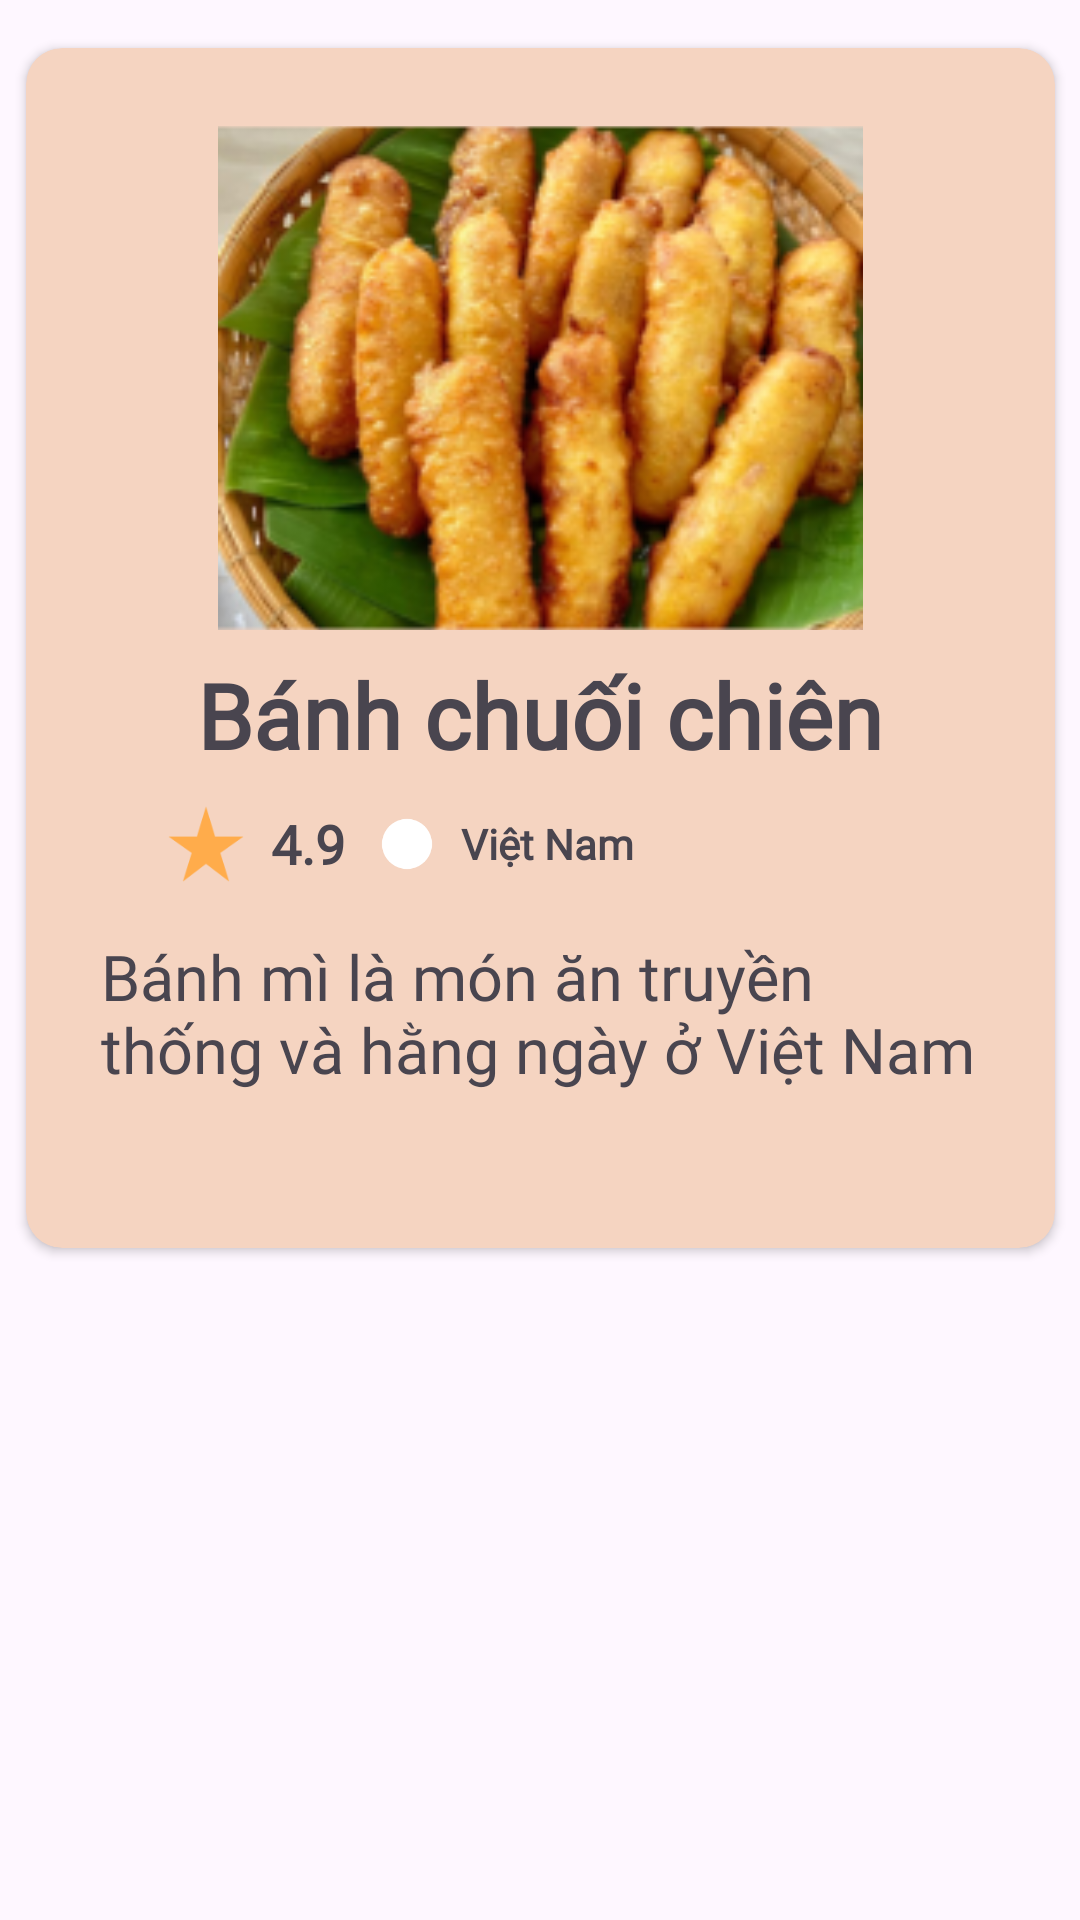

Named icons in this screenshot (1080px x 1920px) and their bounding boxes, (x1, y1, x2, y2):
star: (169, 807, 243, 881)
